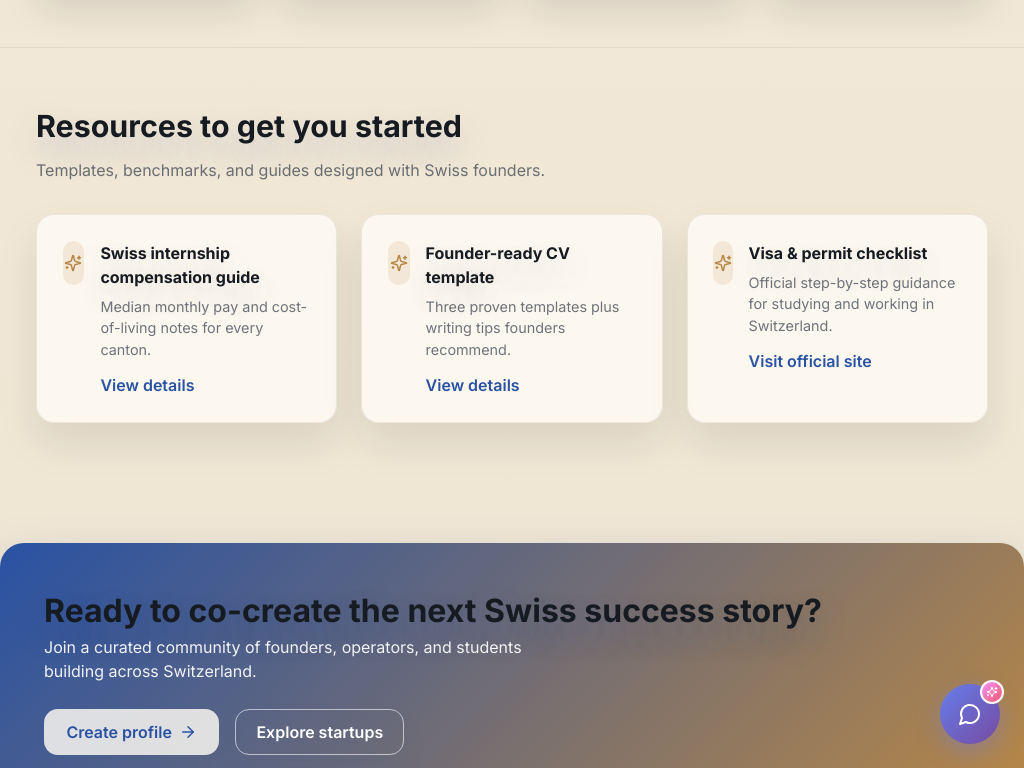
Test: opens resource modal with fallback data and closes on escape
This screenshot has width=1024, height=768.
(page scrolled)
Click the button "View details" below "Swiss internship compensation guide" at (147, 384), box [100, 372, 194, 396]
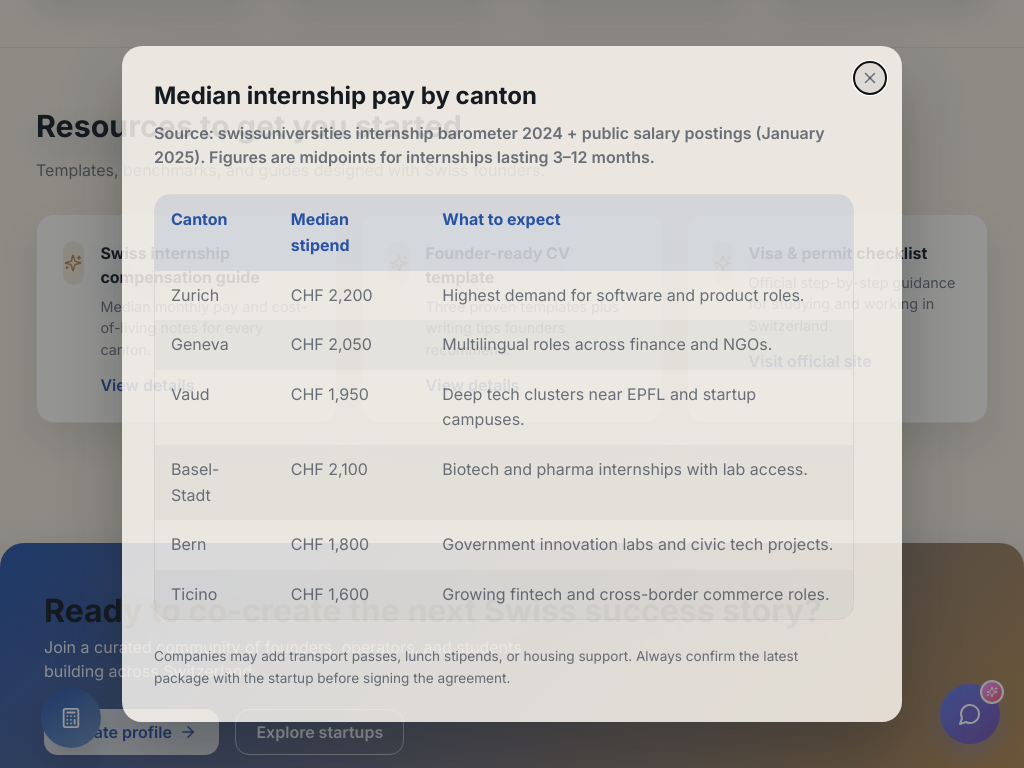
Result: the heading "Median internship pay by canton" is shown at [154, 82, 537, 110]
Press Escape
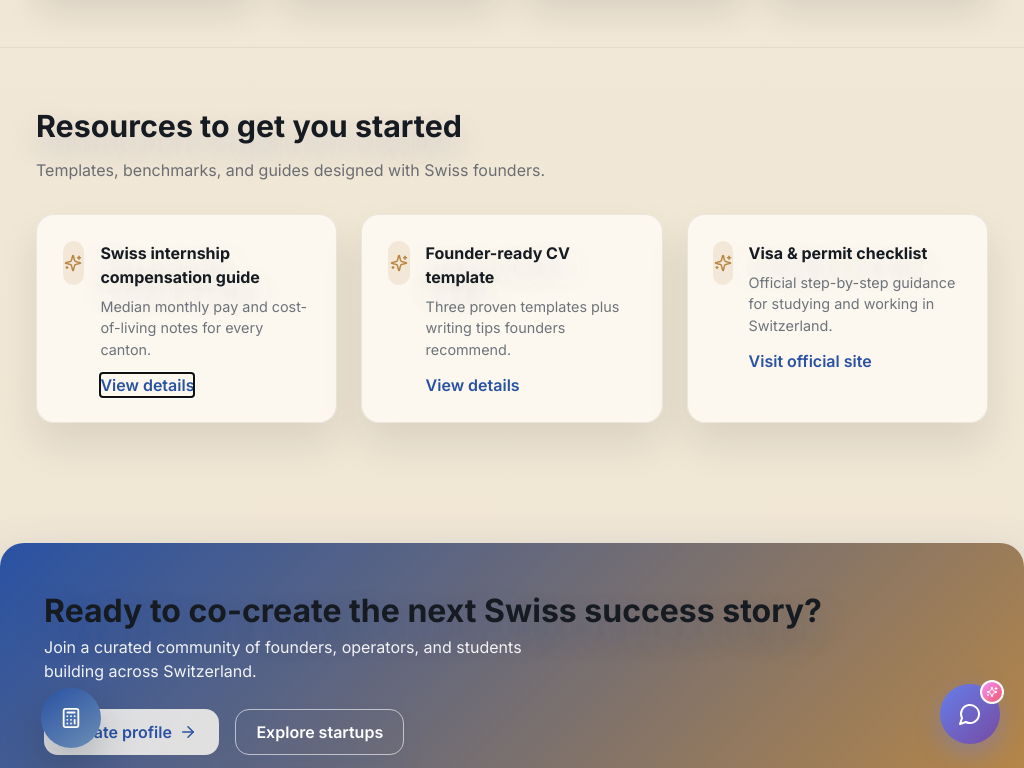
Result: the heading "Median internship pay by canton" is gone
